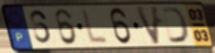6: (108, 7, 133, 46), (53, 8, 78, 47), (29, 9, 53, 47)
D: (160, 6, 191, 45)
L: (80, 7, 110, 46)
V: (133, 5, 162, 47)
